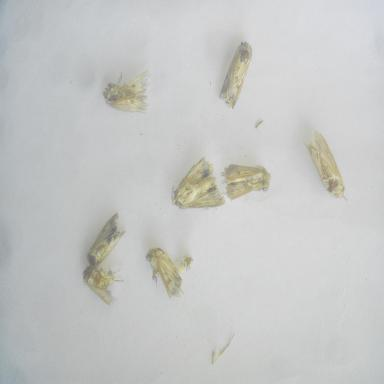abw: (301, 125, 350, 206), (166, 154, 228, 214), (215, 36, 257, 115), (219, 152, 275, 207), (142, 242, 188, 306), (84, 207, 129, 272), (100, 65, 156, 117), (78, 260, 122, 311)
